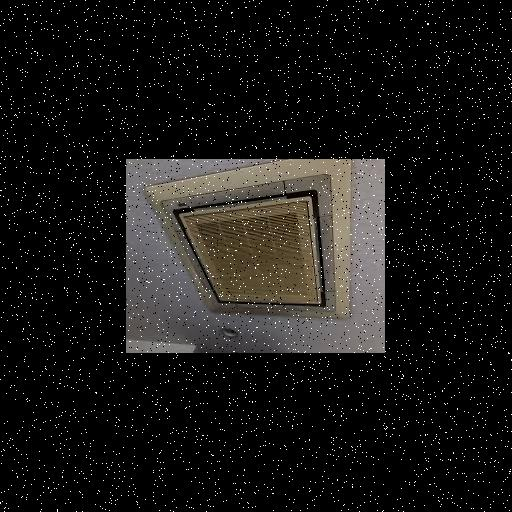4-way-ac: (144, 159, 358, 319)
